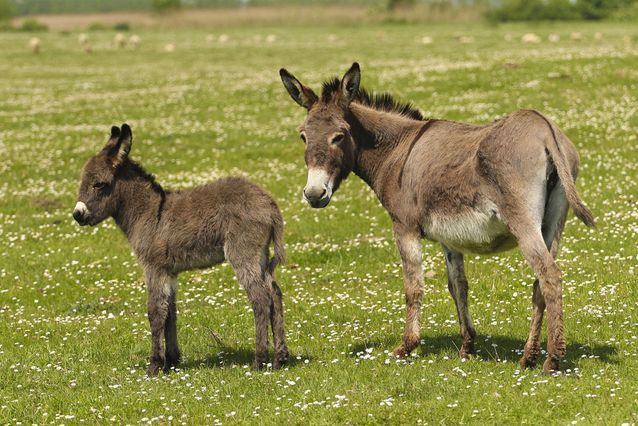donkey: (280, 64, 590, 380), (72, 117, 290, 368)
